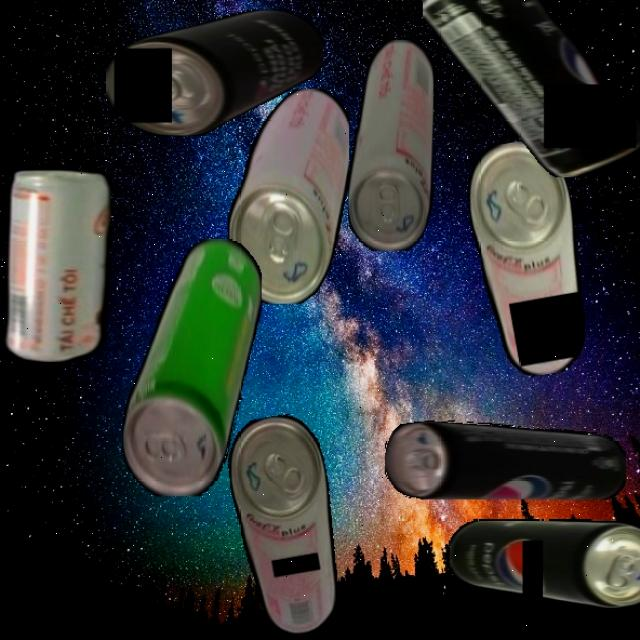debris: (422, 0, 640, 177), (121, 238, 262, 496), (458, 134, 600, 383), (220, 409, 352, 640), (106, 9, 323, 136), (227, 88, 349, 304), (5, 168, 111, 362), (385, 420, 626, 500), (347, 39, 434, 251), (448, 519, 640, 608)
